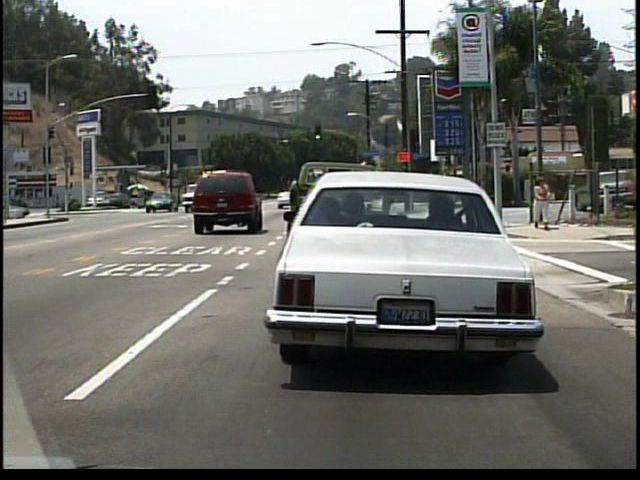person: (532, 174, 552, 234)
